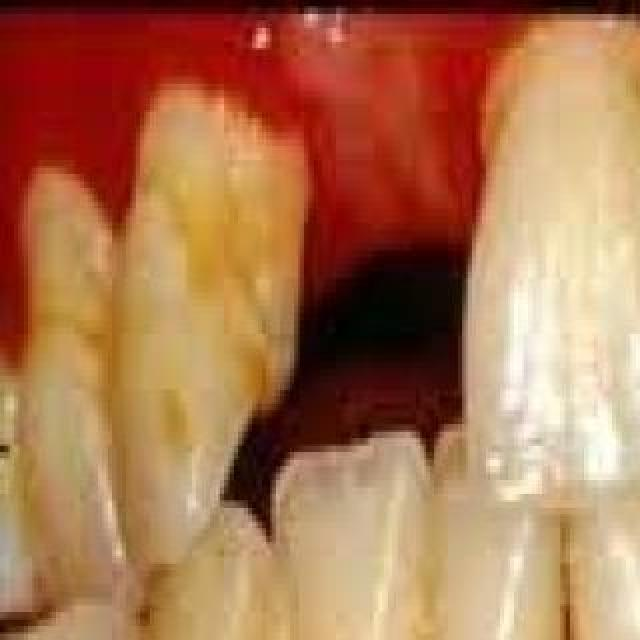calculus: (138, 78, 314, 254), (490, 20, 640, 172), (6, 163, 108, 329)
maligned: (11, 317, 117, 621), (10, 618, 126, 640)
missing: (289, 135, 495, 467)
